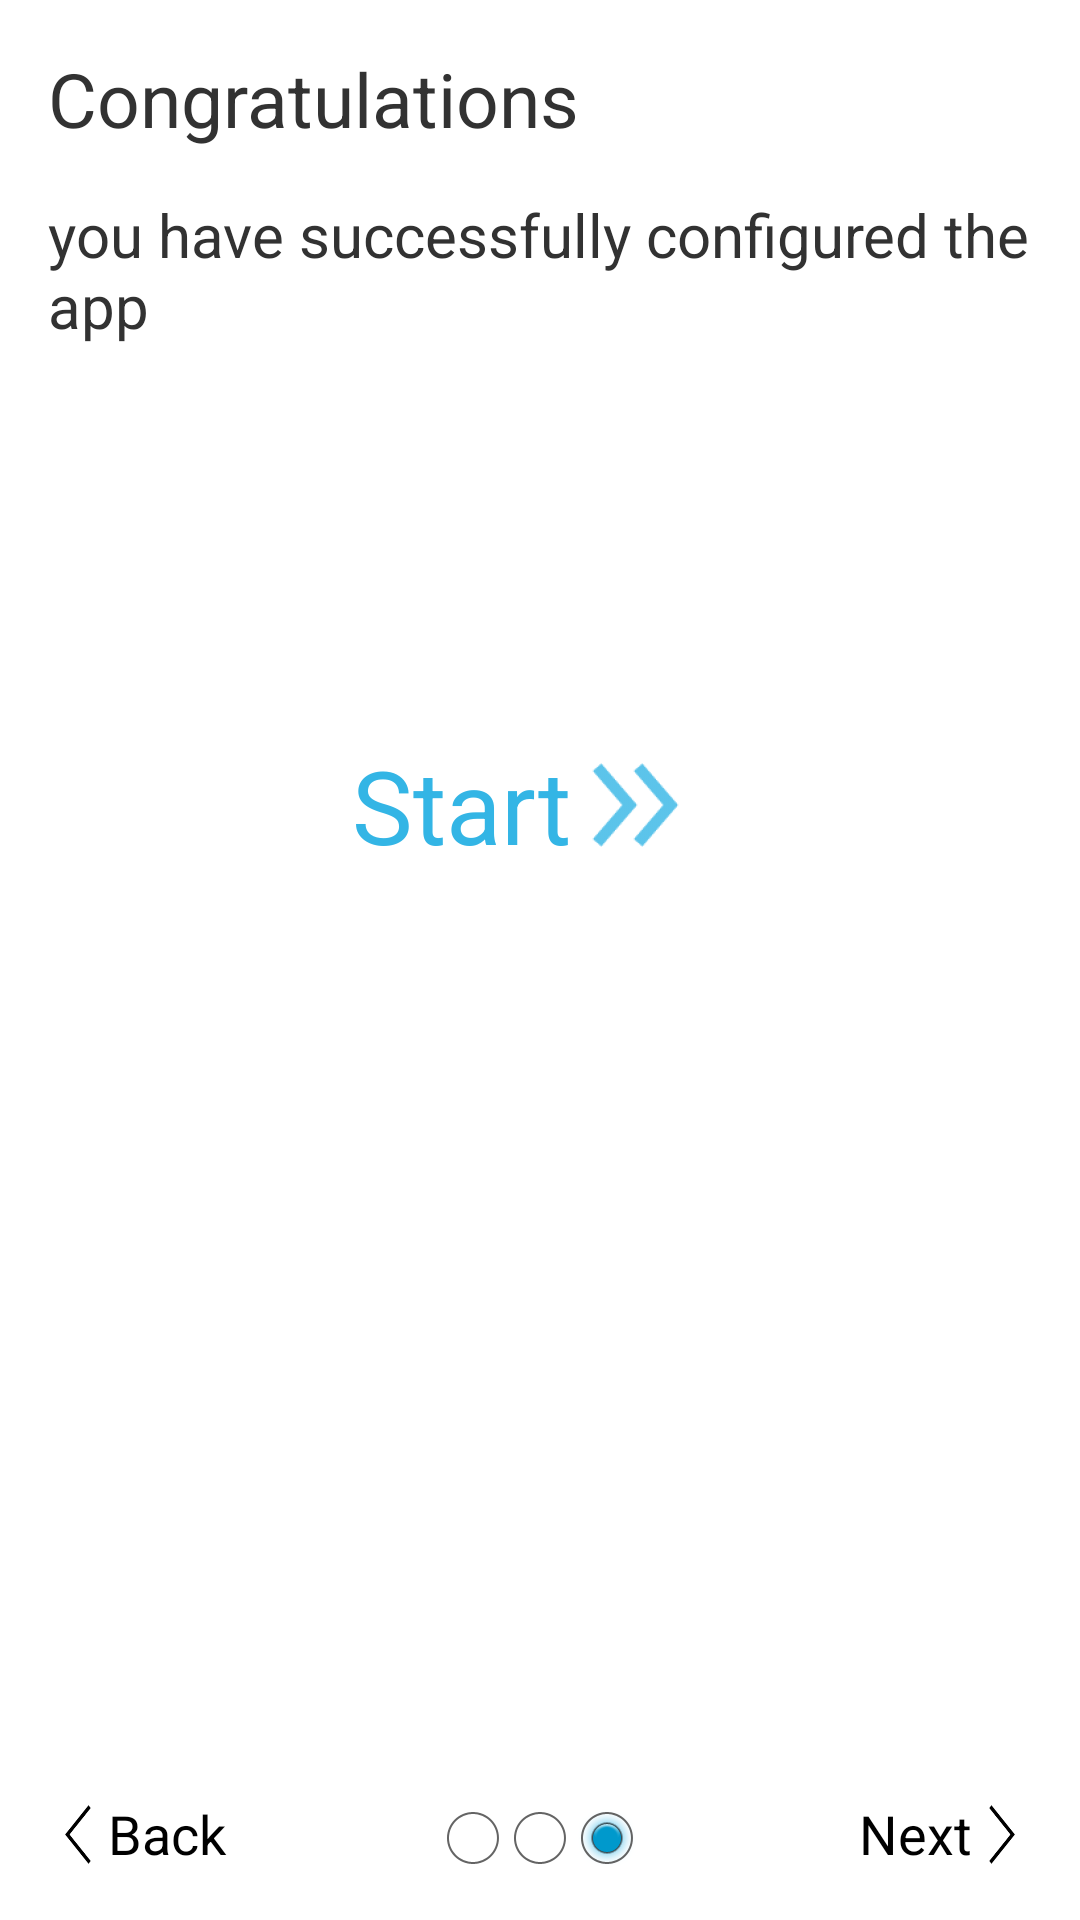

Icons on this 1080px×1920px Android screen, each with its box as {"left": x1, "top": y1, "right": x2, "bottom": y2}:
forward: {"left": 989, "top": 1805, "right": 1015, "bottom": 1864}
